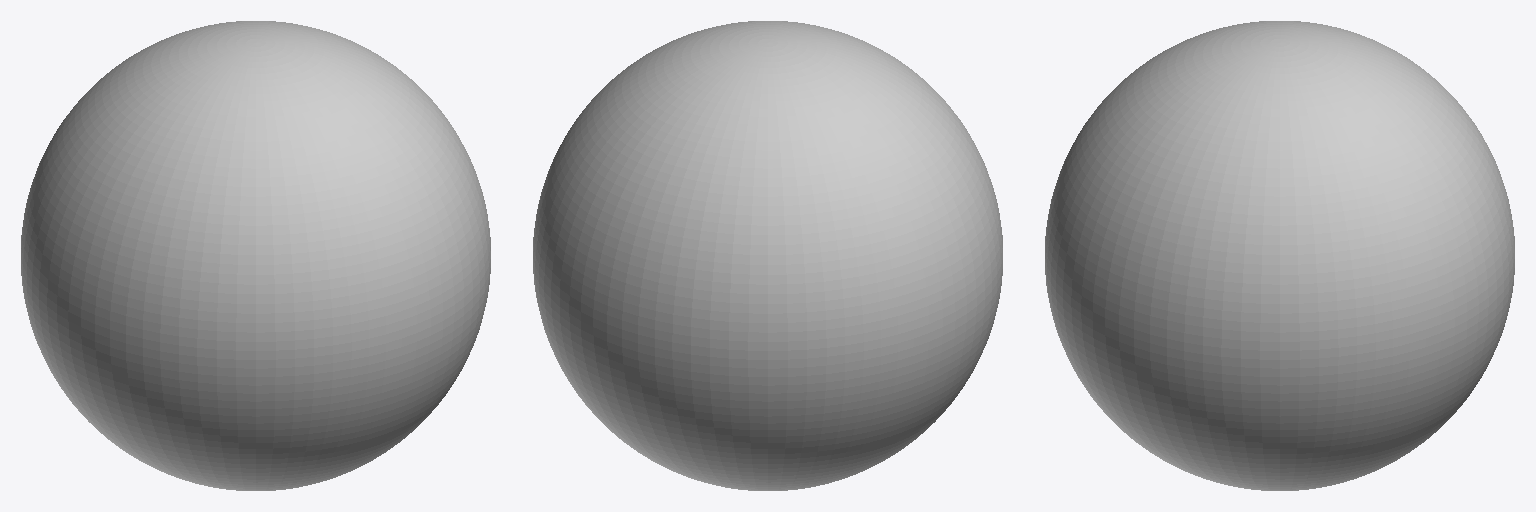
The model's file is bloodorb.obj.
3 views of the same model, side by side, from view 1: azimuth 30°, elevation 25°; view 2: azimuth 150°, elevation 25°; view 3: azimuth 270°, elevation 25° (orthographic).
Parts seen in each view (by area): view 1: pSphere1; view 2: pSphere1; view 3: pSphere1.
Part boxes in pixels (x1,y1,x2,y2): pSphere1: (21,21,490,490); pSphere1: (533,21,1002,490); pSphere1: (1045,21,1514,490).
Size of the model in its own units: 2 by 2 by 2.